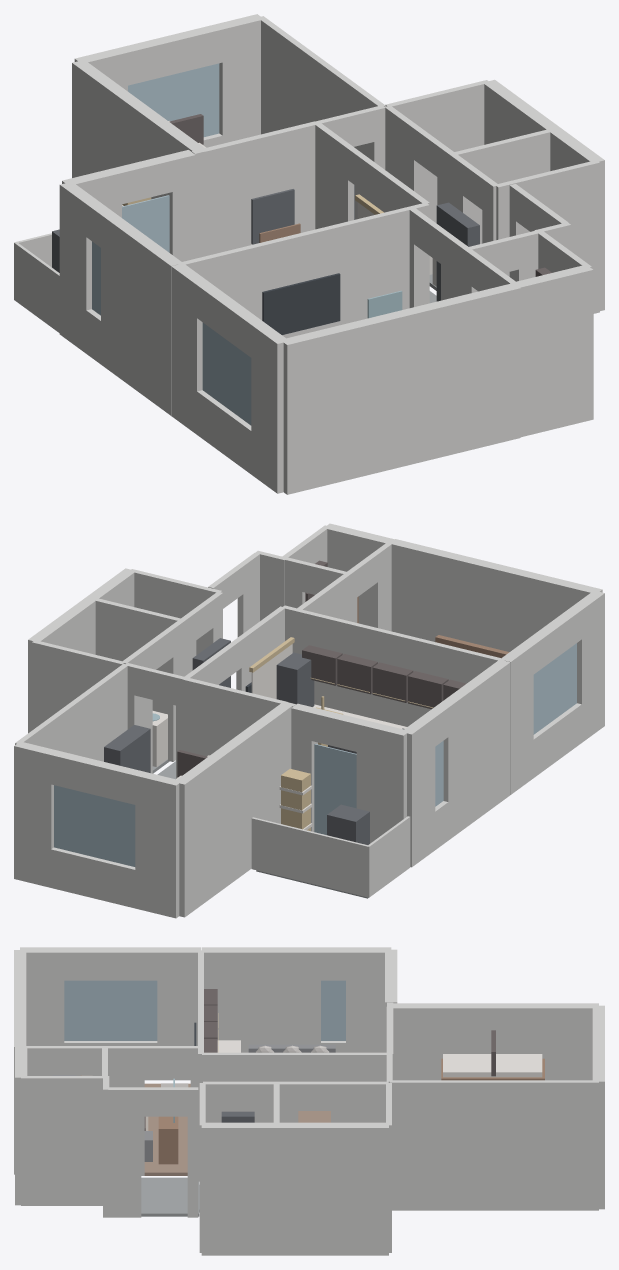
Rendered from kvartira-graphite-school-daily.glb.
3 views of the same model, one above another, from view 1: azimuth 30°, elevation 25°; view 2: azimuth 150°, elevation 25°; view 3: azimuth 270°, elevation 25° (orthographic). The views are drawn at different scales.
Parts seen in each view (by area): view 1: wall_w_l_s_166_612_0.0, wall_w_dividing_168_644_0.0, wall_w_closet_s_612_752_0.0, wall_w_k_w_559_791_0.0, wall_w_top_s_426_660_0.0, wall_w_top_w_20_423_0.0, wall_w_top_e_20_425_0.0, wall_w_wc_s_777_971_0.0, wall_w_l_w_1057_1143_0.0, wall_w_top_n_691_771_0.0, wall_w_bath_n_777_971_0.0, wall_w_k_w_423_511_0.0 (+40 smaller); view 2: wall_w_l_s_166_612_0.0, wall_w_top_w_20_423_0.0, wall_w_dividing_168_644_0.0, wall_w_k_w_559_791_0.0, wall_w_top_n_422_510_0.0, wall_w_log_n_159_409_0.0, wall_w_top_n_691_771_0.0, wall_w_top_e_20_425_0.0, wall_w_top_n_510_691_0.8, wall_w_k_n1_165_266_0.0, wall_w_k_n2_408_643_0.0, wall_w_bath_n_777_971_0.0 (+51 smaller); view 3: wall_w_top_e_20_425_0.0, wall_w_bath_e_427_791_0.0, wall_w_top_w_20_423_0.0, wall_w_k_w_559_791_0.0, wall_w_closet_e_978_1141_0.0, wall_w_l_w_877_1057_0.8, wall_w_entry_e_908_972_0.0, wall_w_l_w_792_877_0.0, wall_w_k_w_423_511_0.0, wall_w_l_w_1057_1143_0.0, wall_w_l_w_877_1057_2.1, wall_w_k_e_625_790_0.0 (+30 smaller).
Boxes of the visible parts, <box> form: wall_w_l_s_166_612_0.0: <box>281,283,520,494</box>; wall_w_dividing_168_644_0.0: <box>178,202,429,338</box>; wall_w_closet_s_612_752_0.0: <box>516,265,593,437</box>; wall_w_k_w_559_791_0.0: <box>101,212,182,415</box>; wall_w_top_s_426_660_0.0: <box>204,119,327,256</box>; wall_w_top_w_20_423_0.0: <box>72,60,204,199</box>; wall_w_top_e_20_425_0.0: <box>258,16,385,219</box>; wall_w_wc_s_777_971_0.0: <box>495,161,599,313</box>; wall_w_l_w_1057_1143_0.0: <box>251,322,289,493</box>; wall_w_top_n_691_771_0.0: <box>216,14,263,143</box>; wall_w_bath_n_777_971_0.0: <box>385,80,489,223</box>; wall_w_k_w_423_511_0.0: <box>59,183,98,353</box>; wall_w_l_s_166_612_0.0: <box>390,539,602,651</box>; wall_w_top_w_20_423_0.0: <box>174,703,292,917</box>; wall_w_dividing_168_644_0.0: <box>282,605,505,726</box>; wall_w_k_w_559_791_0.0: <box>437,659,510,840</box>; wall_w_top_n_422_510_0.0: <box>135,771,181,918</box>; wall_w_log_n_159_409_0.0: <box>251,817,368,897</box>; wall_w_top_n_691_771_0.0: <box>14,742,56,887</box>; wall_w_top_e_20_425_0.0: <box>15,663,127,761</box>; wall_w_top_n_510_691_0.8: <box>54,785,135,866</box>; wall_w_k_n1_165_266_0.0: <box>356,719,409,843</box>; wall_w_k_n2_408_643_0.0: <box>183,679,295,756</box>; wall_w_bath_n_777_971_0.0: <box>32,641,124,730</box>; wall_w_top_e_20_425_0.0: <box>390,1080,598,1210</box>; wall_w_bath_e_427_791_0.0: <box>201,1122,388,1255</box>; wall_w_top_w_20_423_0.0: <box>391,1003,598,1080</box>; wall_w_k_w_559_791_0.0: <box>201,947,320,1052</box>; wall_w_closet_e_978_1141_0.0: <box>21,1076,104,1205</box>; wall_w_l_w_877_1057_0.8: <box>64,980,157,1040</box>; wall_w_entry_e_908_972_0.0: <box>108,1087,141,1217</box>; wall_w_l_w_792_877_0.0: <box>157,947,200,1080</box>; wall_w_k_w_423_511_0.0: <box>346,947,391,1052</box>; wall_w_l_w_1057_1143_0.0: <box>20,947,64,1045</box>; wall_w_l_w_877_1057_2.1: <box>64,947,157,980</box>; wall_w_k_e_625_790_0.0: <box>202,1052,286,1111</box>.
Size of the model in its own units: 8.24 by 2.77 by 11.41.
